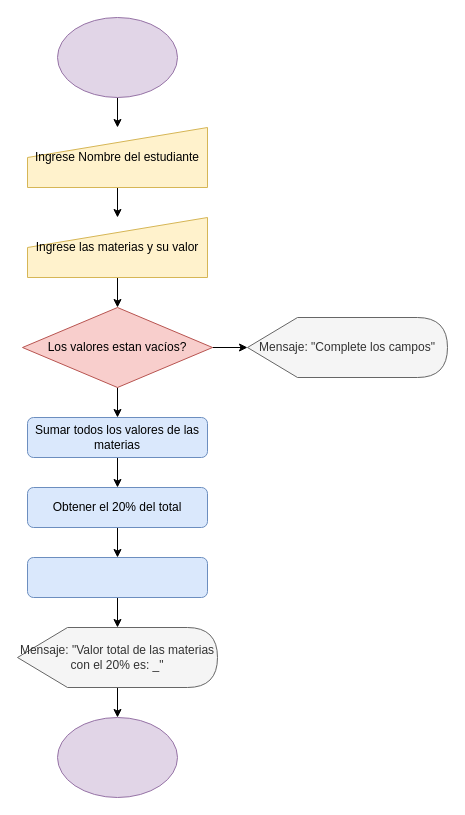
Some shapes in this 465 by 815 pixel diagram are drawn without their labels. The shapes that lost their labels are listed below. From the top down, each one's centre as x and y in pixels, then its label:
At (117,57): "INICIO".
At (117,577): "Adicionar el valor de la papelería y carné".
At (117,757): "FIN".
